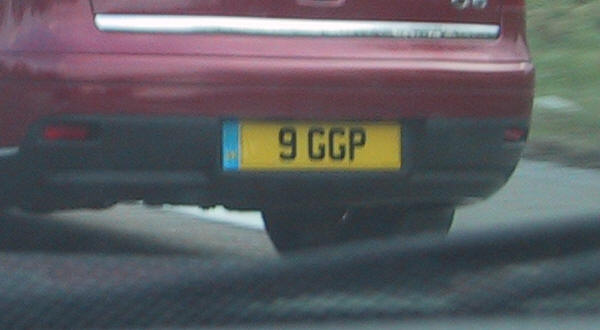license_plate: (221, 117, 406, 172)
